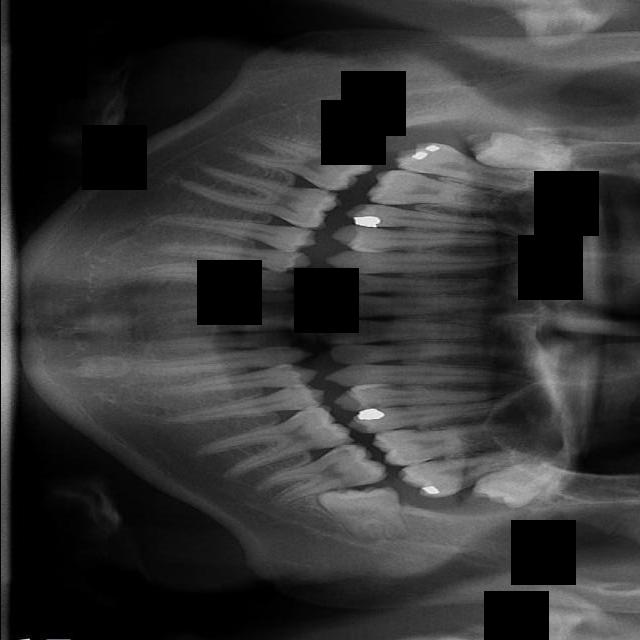3M ESPE Implant: (465, 129, 588, 171)
52: (392, 449, 465, 509), (394, 142, 464, 173), (344, 403, 401, 437), (342, 201, 401, 230)
73: (62, 615, 70, 621)
BioHorizons Implant: (396, 446, 542, 503)
BioLife Implant: (467, 447, 573, 524)
Biomet 3i Implant: (317, 485, 411, 547)
Blue Sky Bio Implant: (247, 435, 389, 513)
Caries: (390, 135, 546, 196)
Implant: (230, 128, 376, 200)
